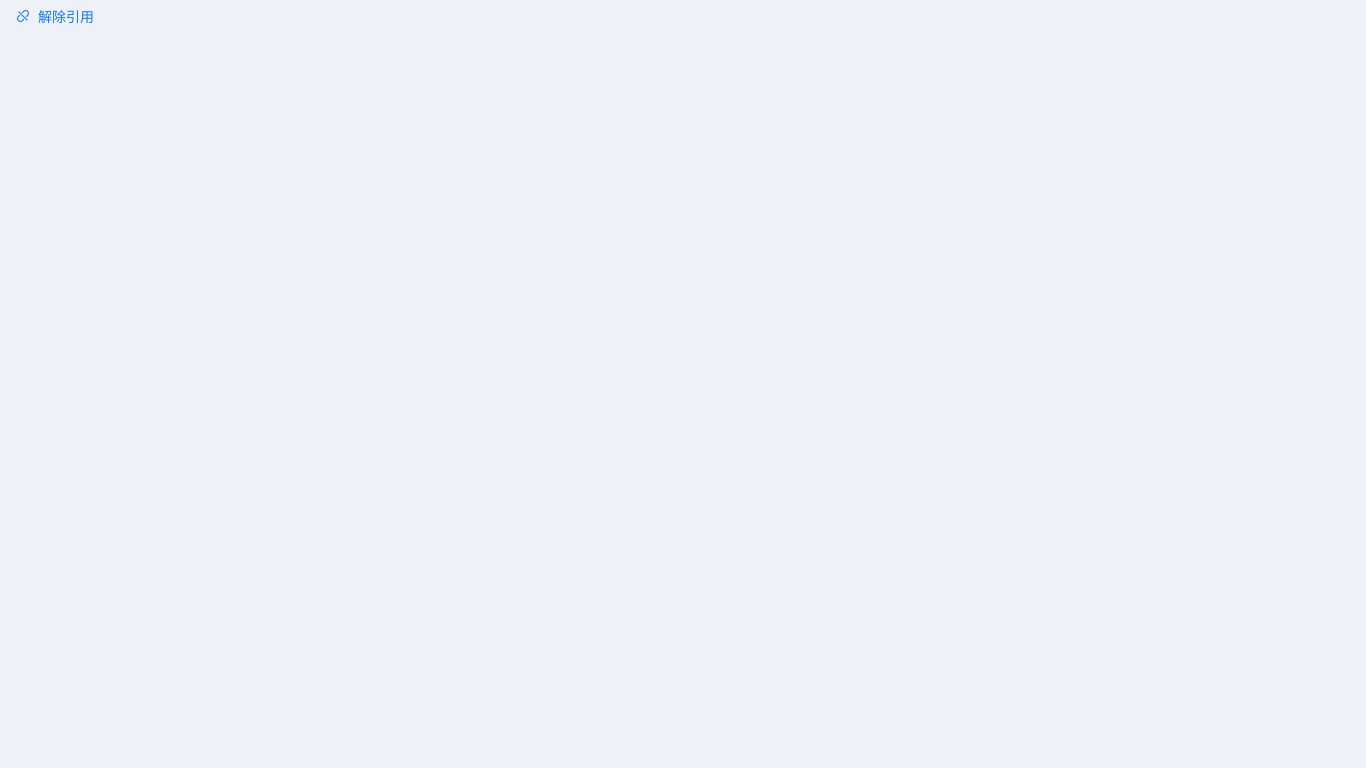
File reference actions › loads on demand and detaches the selected draft with one action
Later steps or results of the test are not shown.
Click the button with aria-label "解除引用 测试.json": (55,16) [0,0,110,32]
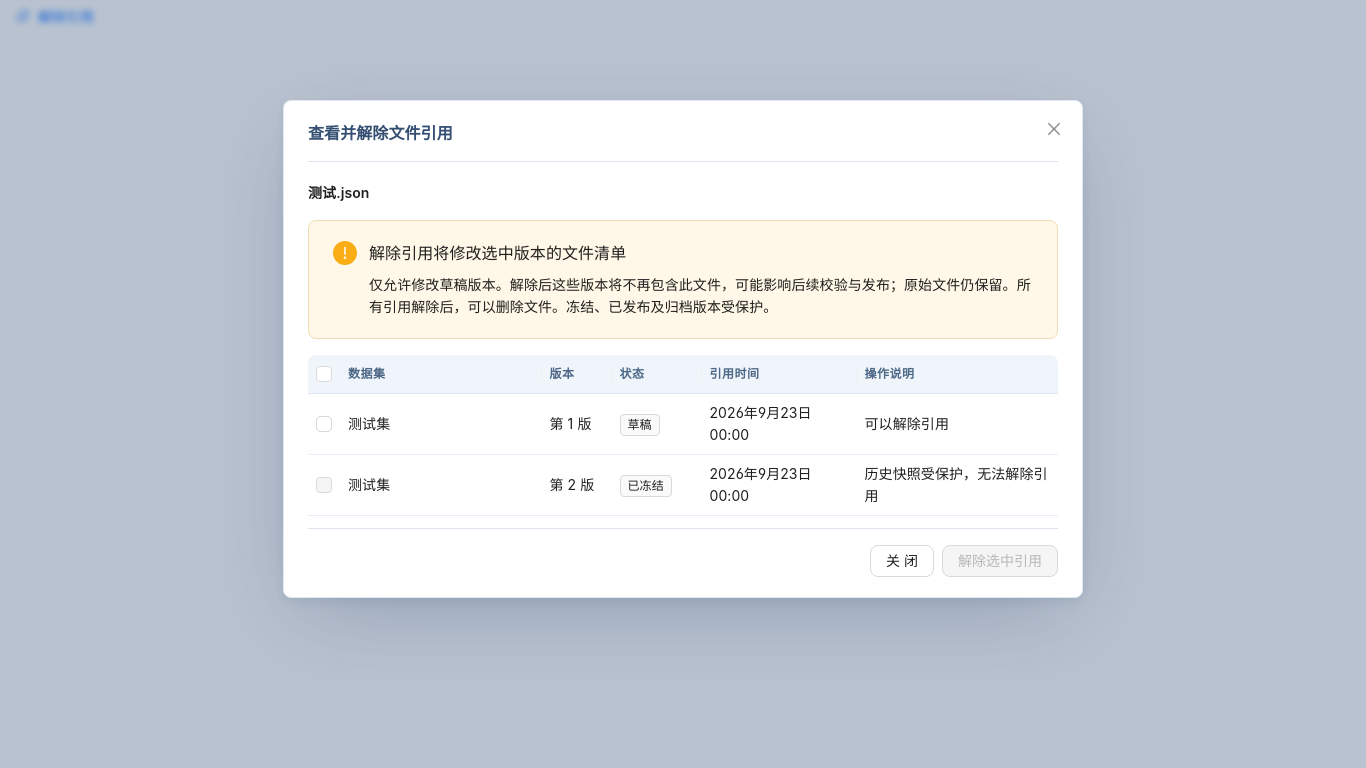
Expected: the text "历史快照受保护，无法解除引用" is shown, [856,455,1058,516]
Expected: the checkbox named "选择 测试集 第 2 版" is disabled, [316,474,332,496]
Expected: the button "解除选中引用" is disabled, [942,545,1058,577]
Click the checkbox named "选择 测试集 第 1 版": (324,424) [316,413,332,435]
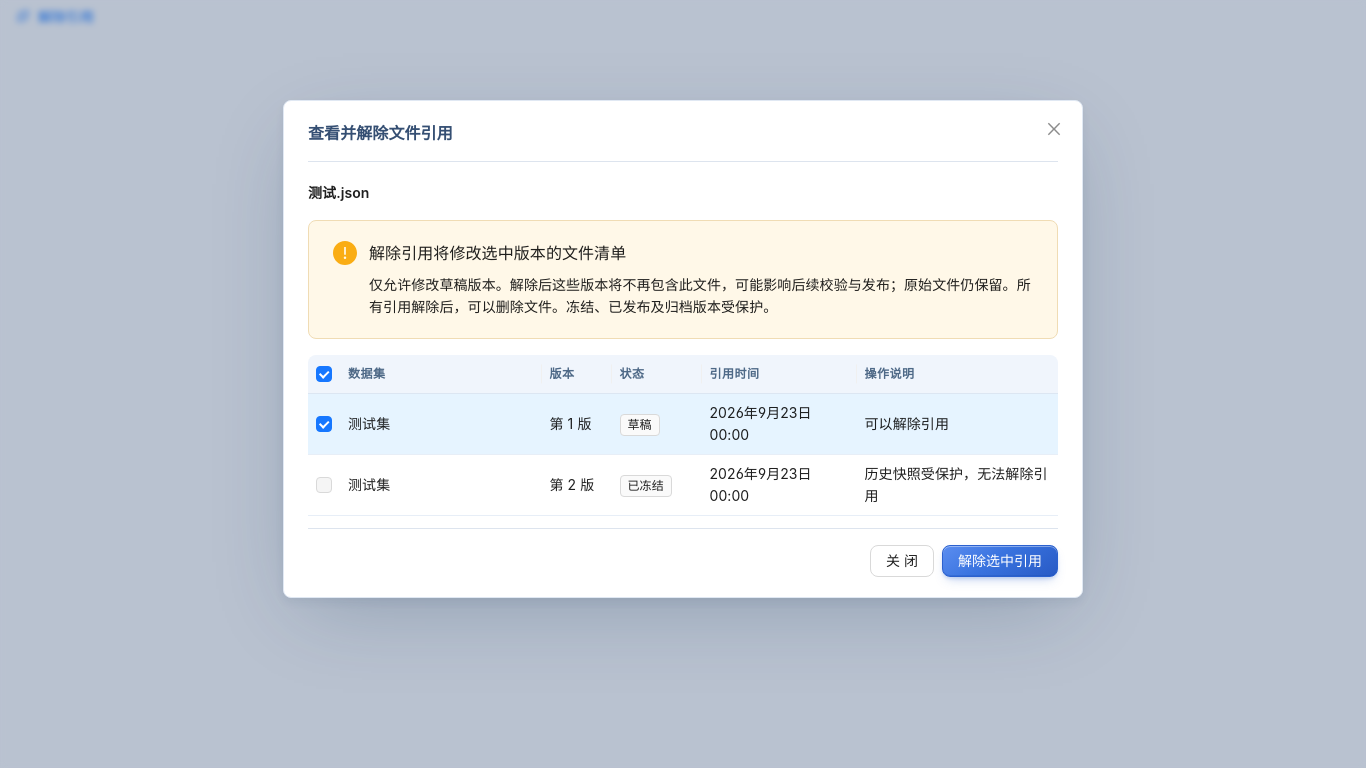
Expected: the button "解除选中引用" is enabled, [942,545,1058,577]
